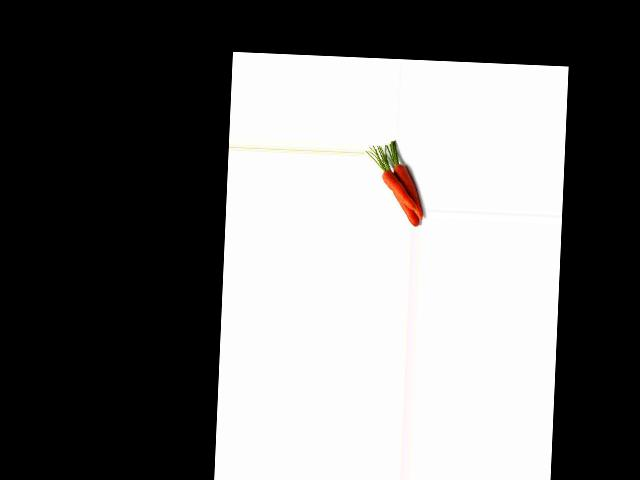carrot: (392, 154, 427, 222)
